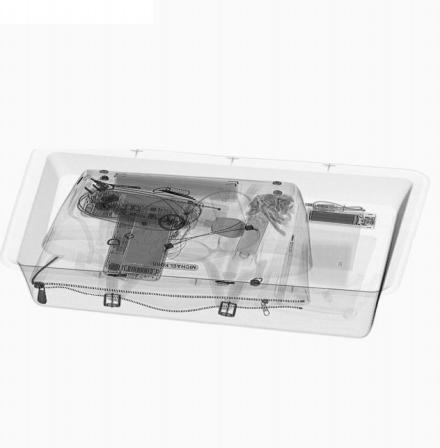Powerbank: (303, 206, 379, 232)
